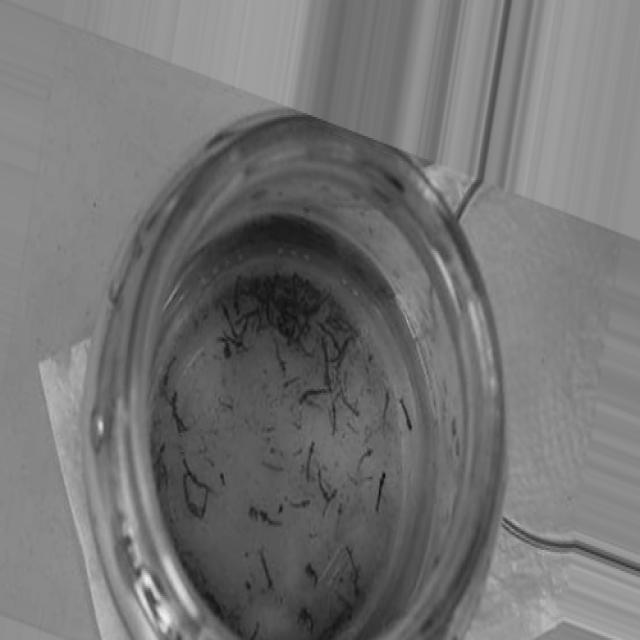larvas: (184, 458, 218, 489), (303, 290, 334, 316), (333, 332, 354, 366), (169, 388, 184, 434), (320, 333, 332, 384), (321, 324, 342, 352), (196, 490, 211, 522), (262, 550, 274, 588), (398, 400, 413, 430), (323, 488, 338, 517), (224, 304, 239, 333), (342, 391, 358, 418), (182, 473, 192, 516), (161, 359, 174, 392), (317, 466, 328, 503), (376, 473, 386, 513), (323, 616, 341, 638), (300, 607, 314, 634), (306, 441, 315, 482), (346, 545, 360, 571), (154, 442, 163, 482), (358, 448, 373, 472), (263, 458, 285, 474), (300, 390, 325, 404), (352, 567, 363, 598), (261, 511, 281, 528), (285, 326, 302, 346), (222, 330, 240, 348), (335, 593, 355, 609), (265, 302, 278, 326), (331, 394, 338, 436), (382, 392, 391, 423), (275, 344, 285, 371), (233, 273, 240, 310), (217, 340, 231, 358), (289, 499, 309, 511), (249, 622, 262, 640), (235, 311, 254, 323), (306, 564, 318, 582), (286, 374, 299, 387), (302, 345, 314, 359), (238, 326, 250, 338)
